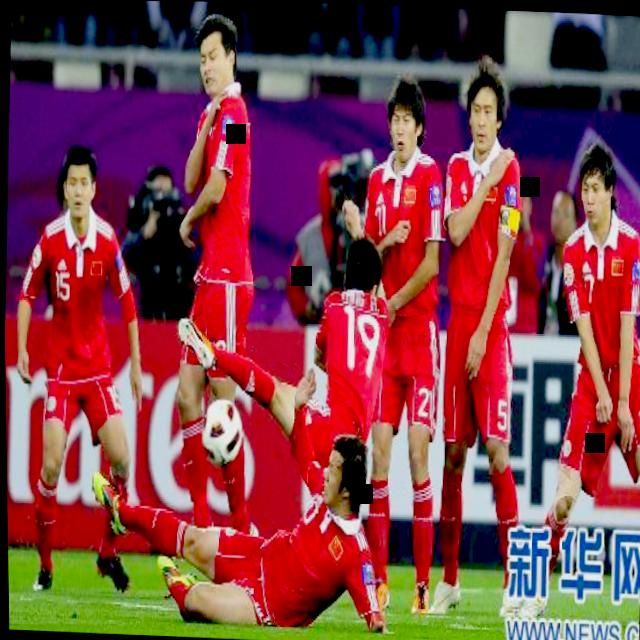Fall-Detected: (84, 392, 381, 640)
